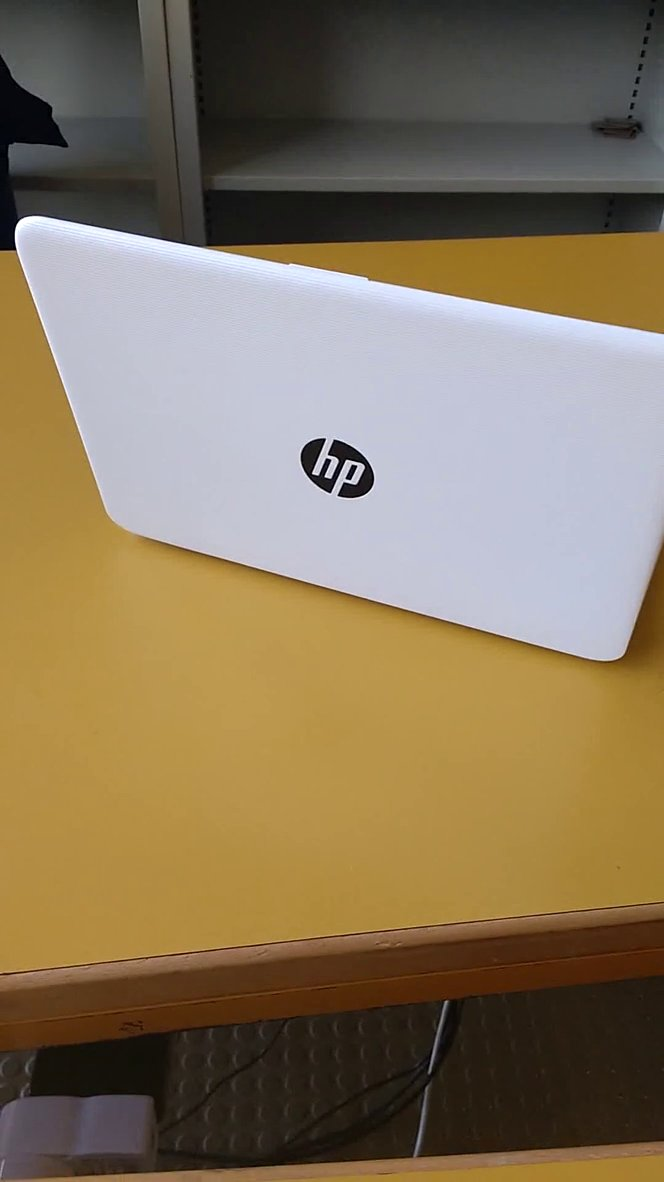laptop: (9, 187, 664, 676)
